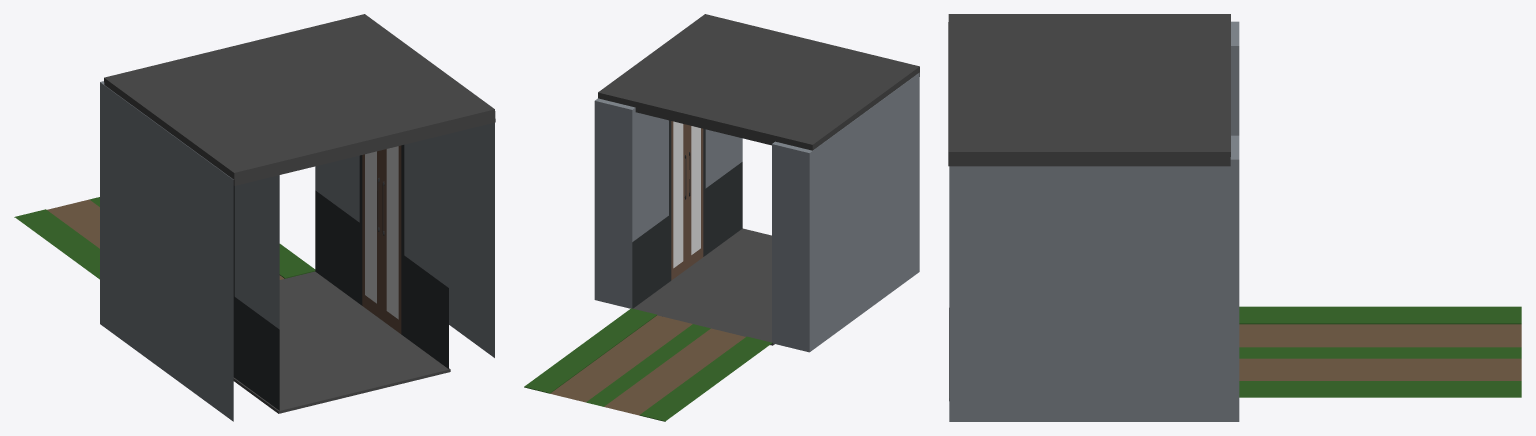
The model's file is ClinicaTileTres.fbx.
The picture shows the model from 3 angles, left to right: view 1: azimuth 30°, elevation 25°; view 2: azimuth 150°, elevation 25°; view 3: azimuth 270°, elevation 25°; orthographic projection. The views are drawn at different scales.
Parts seen in each view (by area): view 1: ClinicaTileTres; view 2: ClinicaTileTres; view 3: ClinicaTileTres.
Part boxes in pixels (x1,y1,x2,y2): ClinicaTileTres: [14, 14, 495, 421]; ClinicaTileTres: [524, 14, 919, 421]; ClinicaTileTres: [948, 14, 1521, 421].
Size of the model in its own units: 1809 by 1666 by 3171.
